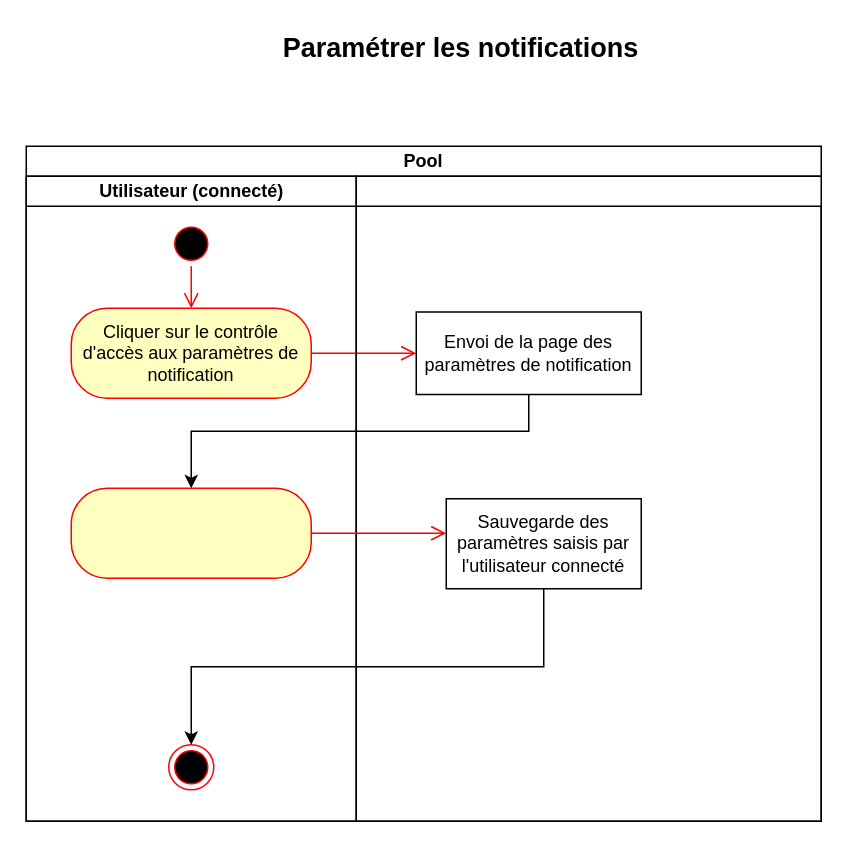
This 848x848 diagram has some shape labels left out. Here are the shapes that lost their labels. From the top down, the box of each, then its label:
(355, 175, 821, 821): Système
(70, 487, 311, 578): Remplir/modifier les paramètres et les soumettre
